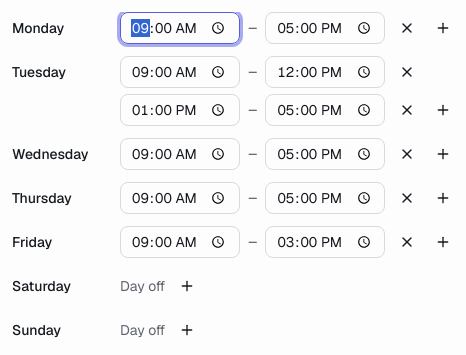
Test: editing a window › abandons the edit on Escape rather than committing it
Replace the text in the time field named "Monday window 1 start" with "10:00" at (180, 28), box [120,12,240,44]
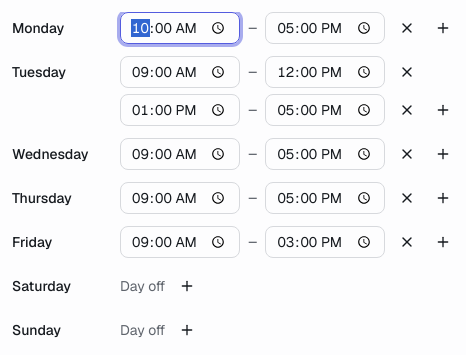
Press Escape in the time field named "Monday window 1 start", box [120,12,240,44]
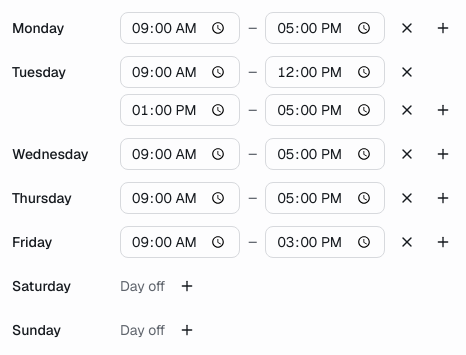
Now the time field named "Monday window 1 start" holds "09:00", box [120,12,240,44]
